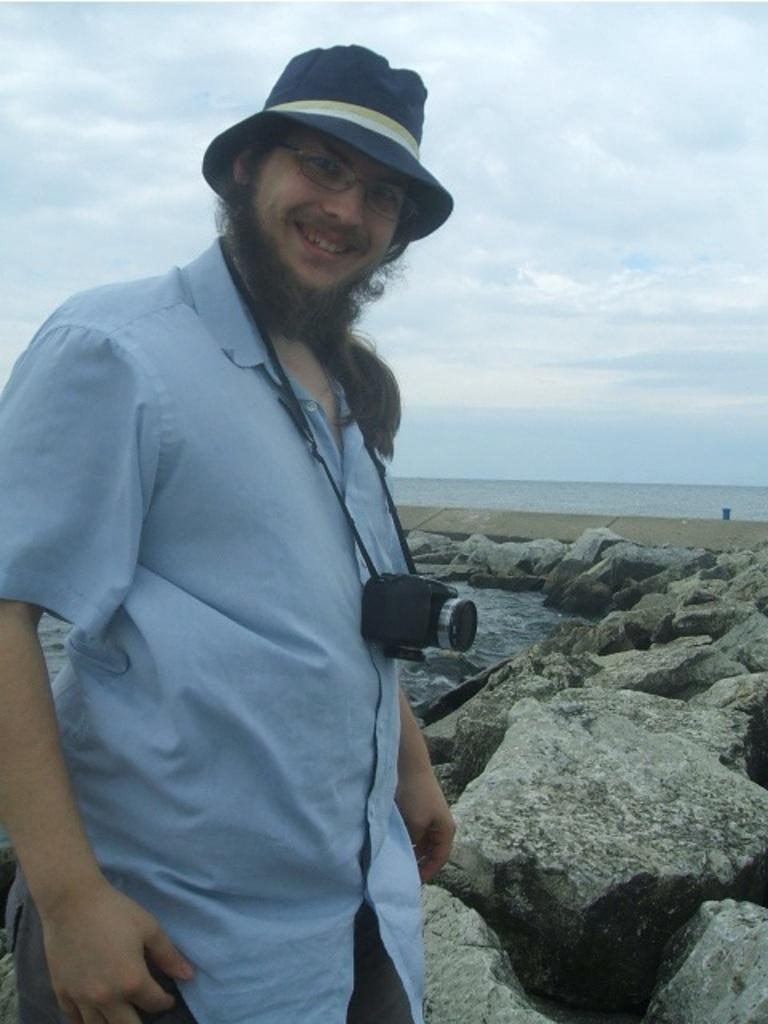Hat: (201, 44, 456, 248)
